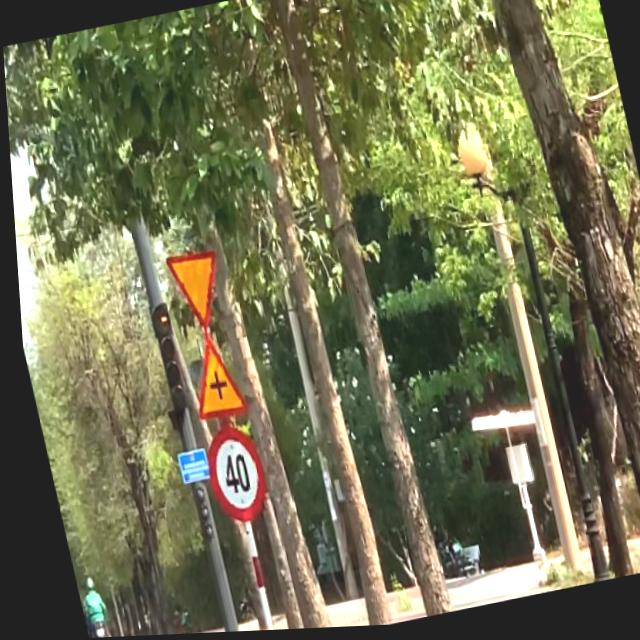Giao nhau voi duong uu tien: (160, 249, 229, 339)
Toc do toi da cho phep: (192, 422, 267, 530)
